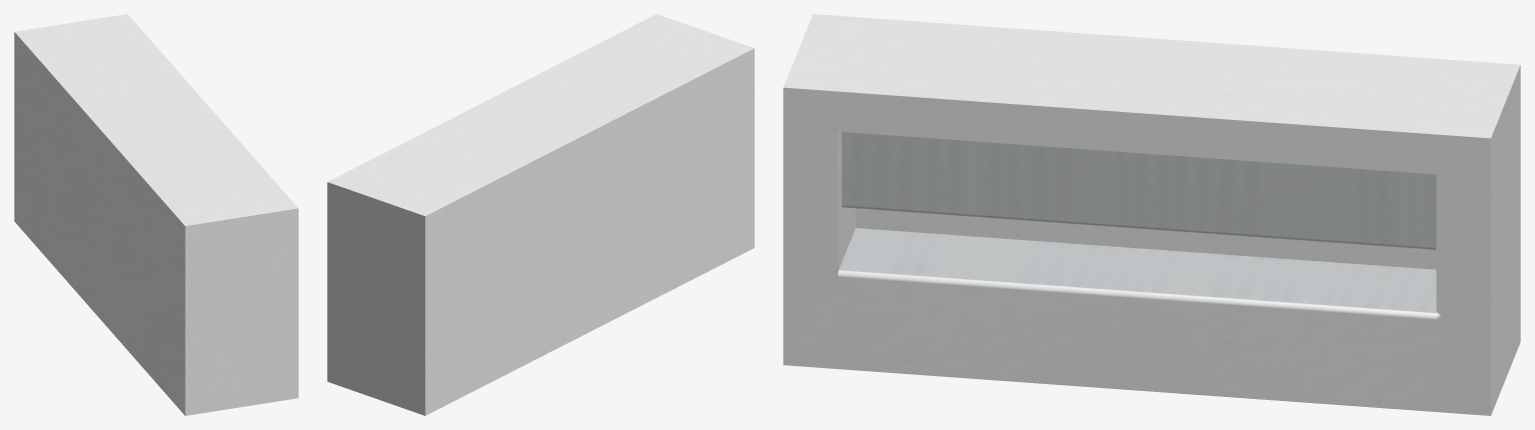
Rendered from cafefoodreturn.fbx.
3 views of the same model, side by side, from view 1: azimuth 30°, elevation 25°; view 2: azimuth 150°, elevation 25°; view 3: azimuth 270°, elevation 25° (orthographic). The views are drawn at different scales.
Visible parts, largest first — view 1: cafecounter:pCube1; view 2: cafecounter:pCube1; view 3: cafecounter:pCube1.
Part boxes in pixels (left/top/right/bottom): cafecounter:pCube1: left=14, top=14, right=298, bottom=415; cafecounter:pCube1: left=327, top=14, right=754, bottom=415; cafecounter:pCube1: left=783, top=14, right=1520, bottom=415.
Size of the model in its own units: 4.49 by 4.67 by 11.24.
2 materials, 2 textured.
